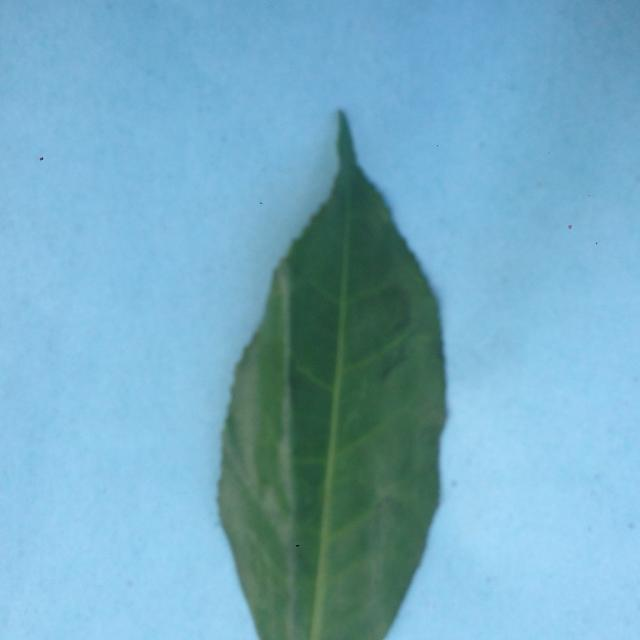Healthy: (147, 85, 496, 640)
